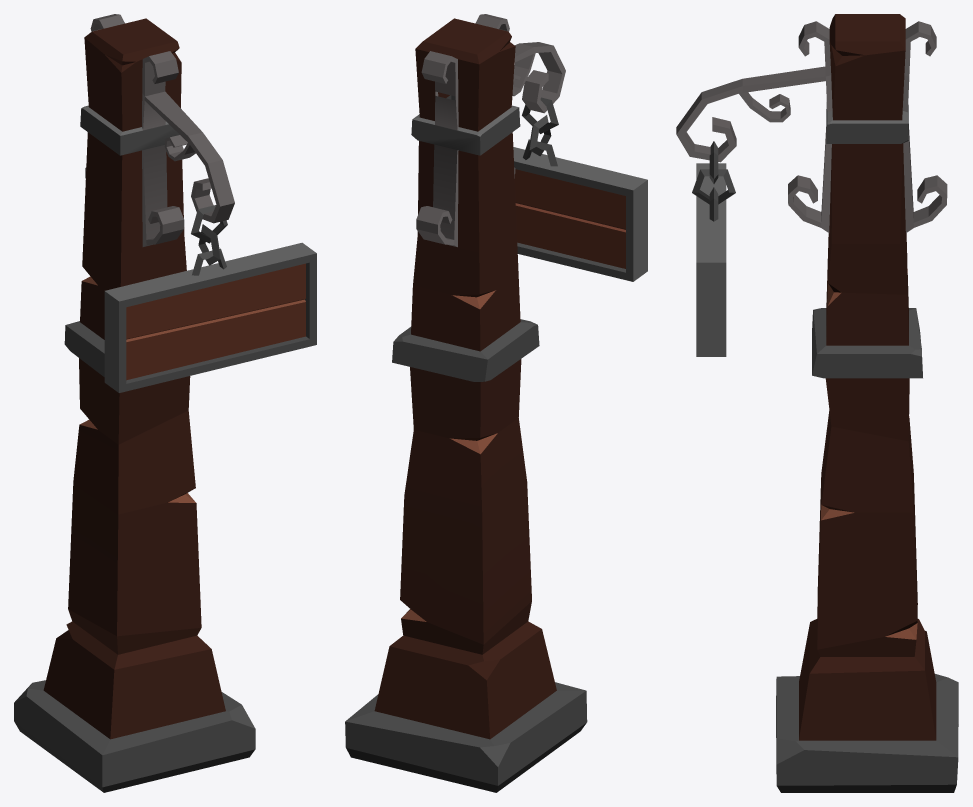
Rendered from SignPost_tree2.glb.
The picture shows the model from 3 angles, left to right: view 1: azimuth 30°, elevation 25°; view 2: azimuth 150°, elevation 25°; view 3: azimuth 270°, elevation 25°; orthographic projection. The views are drawn at different scales.
Parts seen in each view (by area): view 1: Fantasy_Sign_04; view 2: Fantasy_Sign_04; view 3: Fantasy_Sign_04.
Part boxes in pixels (x1,y1,x2,y2): Fantasy_Sign_04: (14,14,316,792); Fantasy_Sign_04: (345,14,647,792); Fantasy_Sign_04: (676,14,958,792).
Size of what is drawn, in the model's own units: 0.9087 by 3.11 by 1.09.
1 material, 1 textured.
